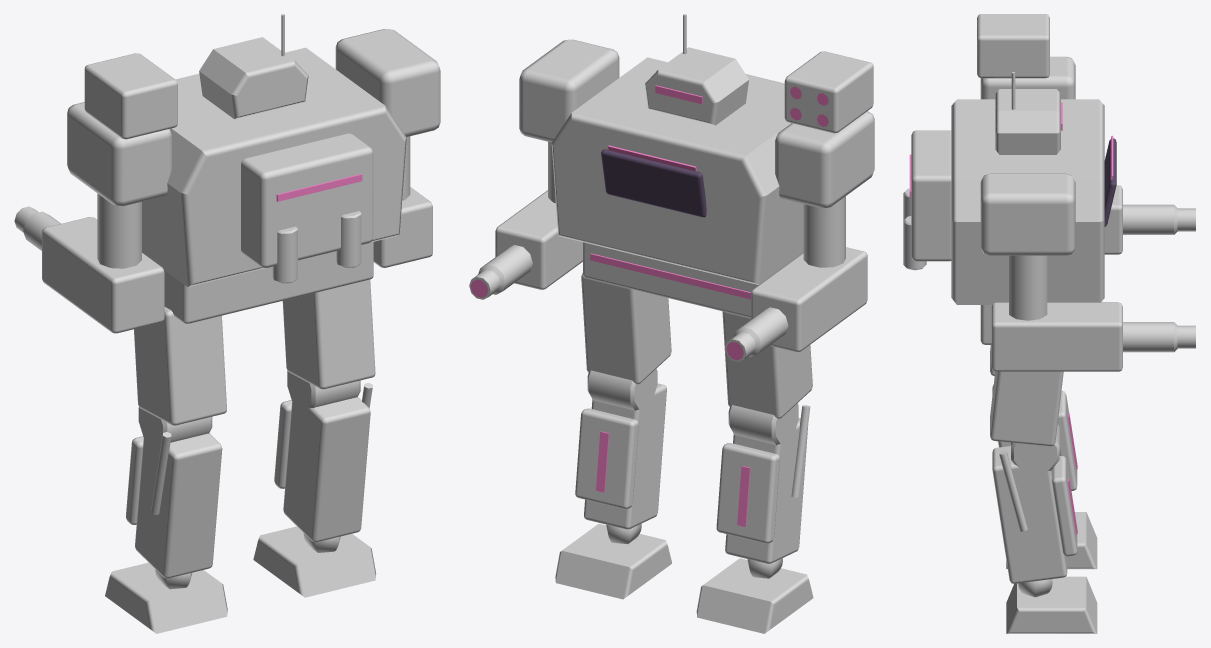
The model's file is MechBot.glb.
The picture shows the model from 3 angles, left to right: view 1: azimuth 30°, elevation 25°; view 2: azimuth 150°, elevation 25°; view 3: azimuth 270°, elevation 25°; orthographic projection. The views are drawn at different scales.
Visible parts, largest first — view 1: Body, Glow; view 2: Body, Glass, Glow; view 3: Body, Glass, Glow.
Boxes of the visible parts, box(x1,y1,x2,y2) form: Body: box(14, 14, 440, 633); Glow: box(276, 174, 362, 201); Body: box(469, 14, 874, 633); Glass: box(601, 149, 706, 217); Glow: box(471, 85, 828, 526); Body: box(903, 14, 1195, 633); Glass: box(1104, 138, 1116, 226); Glow: box(909, 102, 1113, 534).
Size of the model in its own units: 9.3 by 15.8 by 8.04.
